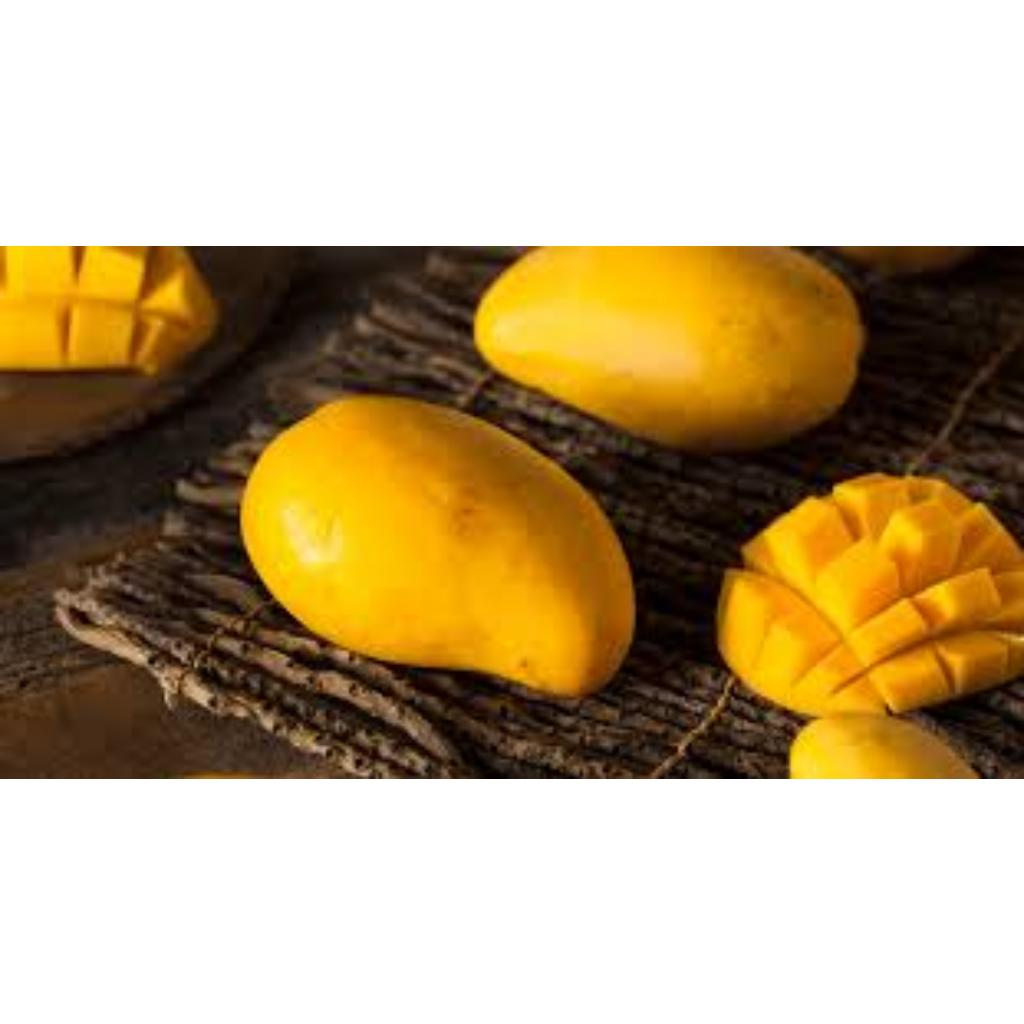mango: (240, 396, 639, 699), (714, 469, 1024, 724), (481, 245, 868, 446), (0, 245, 222, 378)
